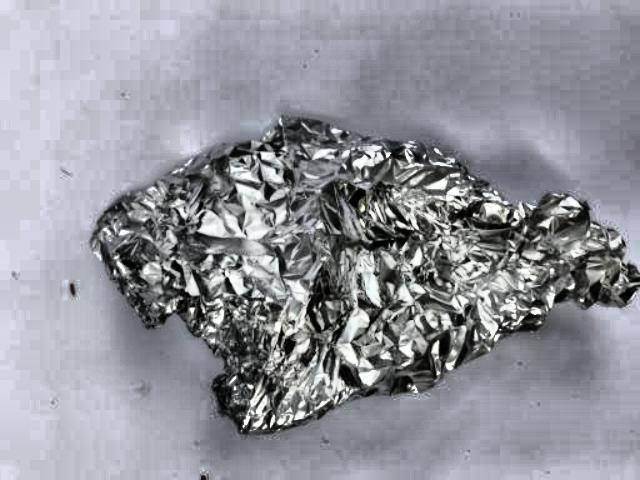Almennt: (68, 98, 640, 480)
